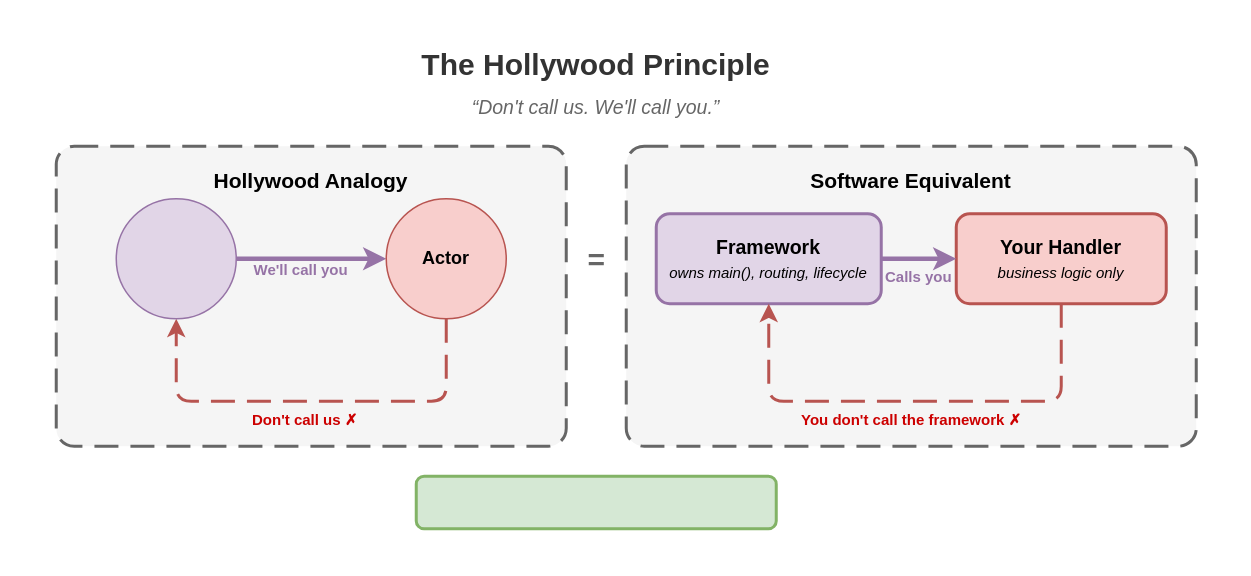
Image size: 1251x576. Some labels were removed from this diagram. Each missing label, with the centre of its shape:
Casting Director: pixel 175 258
IoC = Inversion of Control: pixel 595 502
